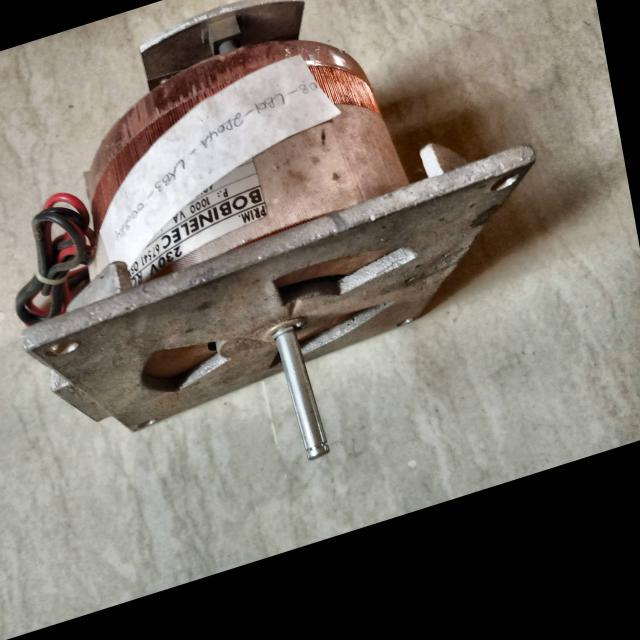AC Transformer: (0, 0, 573, 493)
